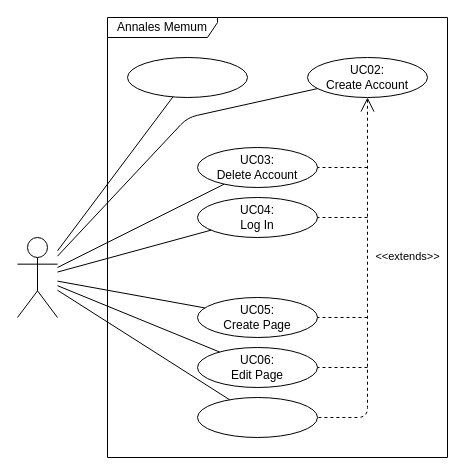
The diagram is 465 pixels wide and 475 high, and some of its shapes have lost their labels. The shapes that lost their labels are listed below. From the top down, each one's centre as x and y in pixels, then its label:
the point at 187,77: UC01: Read Page
the point at 37,277: User
the point at 257,417: UC07: Delete Page
